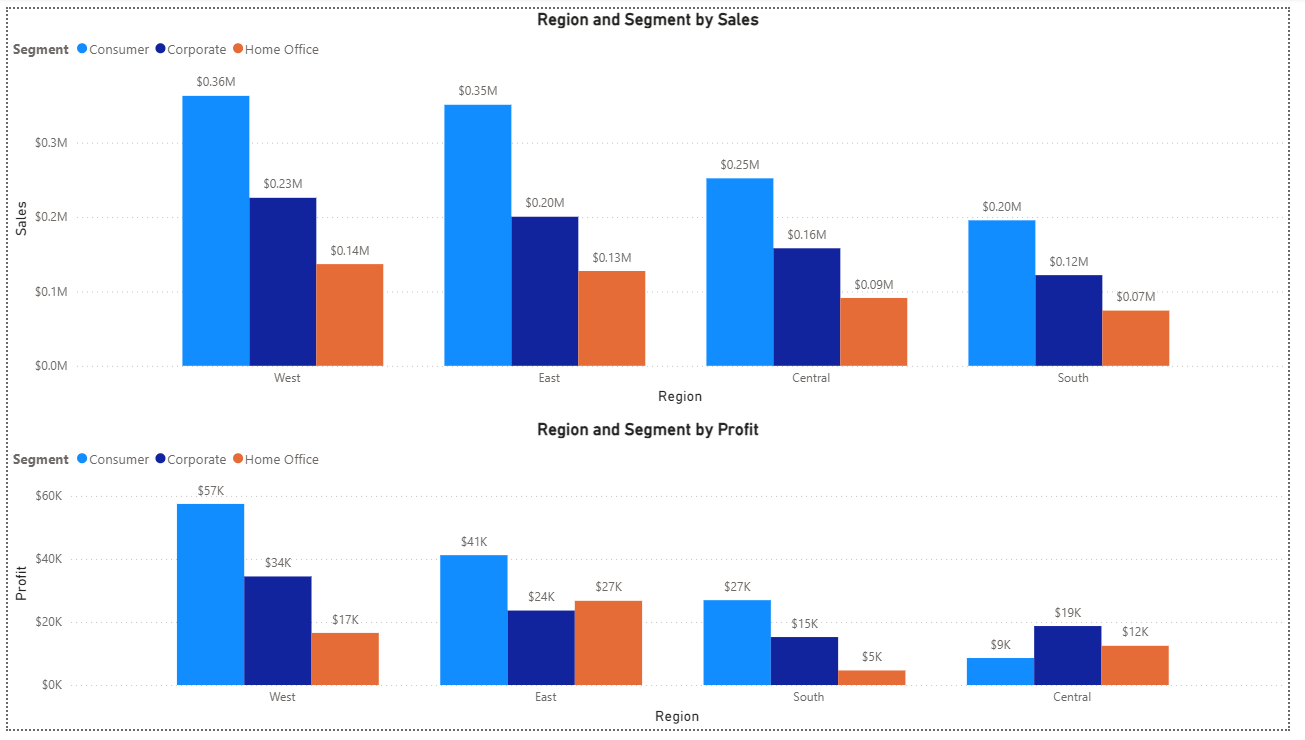

The page's visual inventory and layout, read from the dashboard file:
{"tool":"powerbi","page":{"name":"regional and segment-based performance","canvas":[1280,720],"ordinal":2},"visuals":[{"type":"clusteredColumnChart","title":"Region and Segment by Sales","fields":{"Category":["Orders.Region"],"Series":["Orders.Segment"],"Y":["Sum(Orders.Sales)"]},"box":[0,0,1280,400.6],"z":0},{"type":"clusteredColumnChart","title":"Region and Segment by Profit","fields":{"Category":["Orders.Region"],"Series":["Orders.Segment"],"Y":["Sum(Orders.Profit)"]},"box":[0,410.5,1280,309.7],"z":1000}]}

Visuals, with their boxes in screenshot pixels (x1, y1, x2, y2), scaled from the page's 1280x720 canvas onto the 1305x740 screenshot:
"Region and Segment by Sales" clusteredColumnChart: crop(0, 0, 1304, 412)
"Region and Segment by Profit" clusteredColumnChart: crop(0, 422, 1304, 739)
